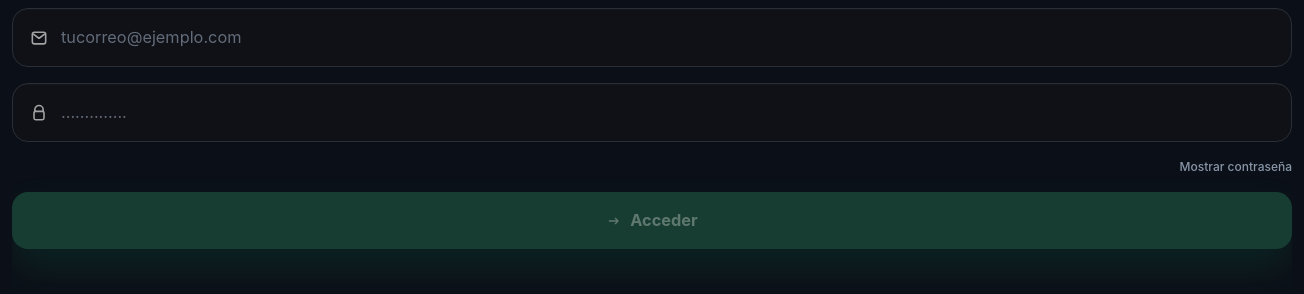
LoginForm – field interaction › enables the submit button once both fields are filled
In the field with placeholder "tucorreo@ejemplo.com": (668, 38) [61,25,1275,50], type "user@example.com"
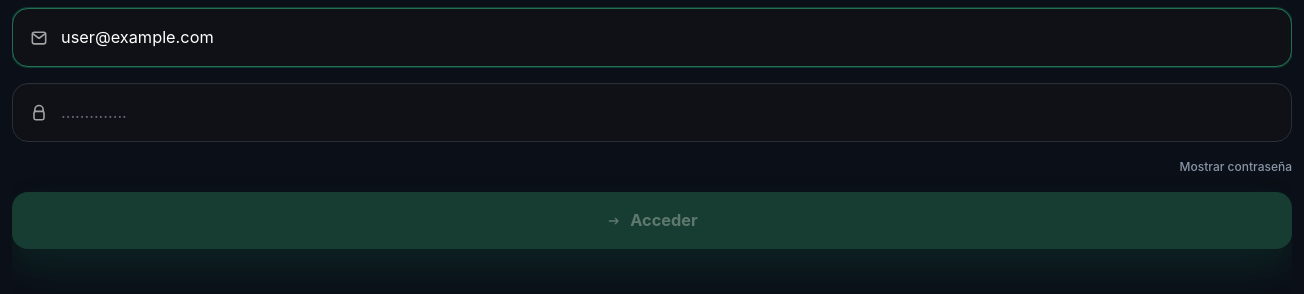
In the password field with placeholder "..............": (668, 113) [61,100,1275,125], type "secret"
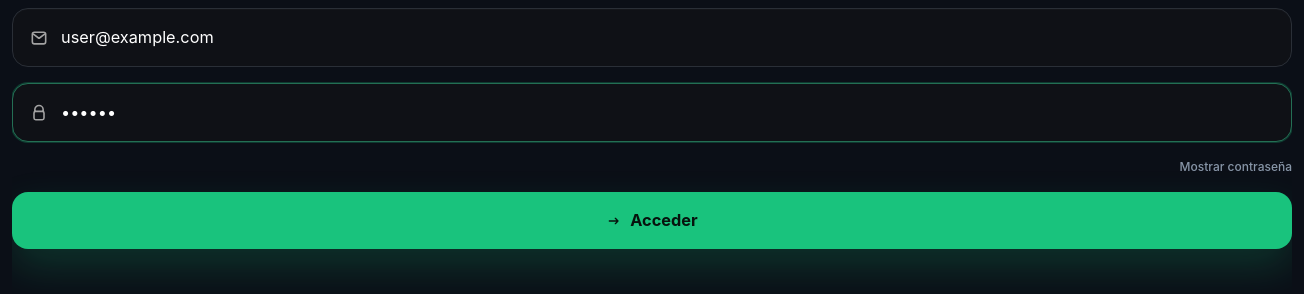
expect the button with test id "submit-login" is enabled: met, box [12,192,1292,249]
